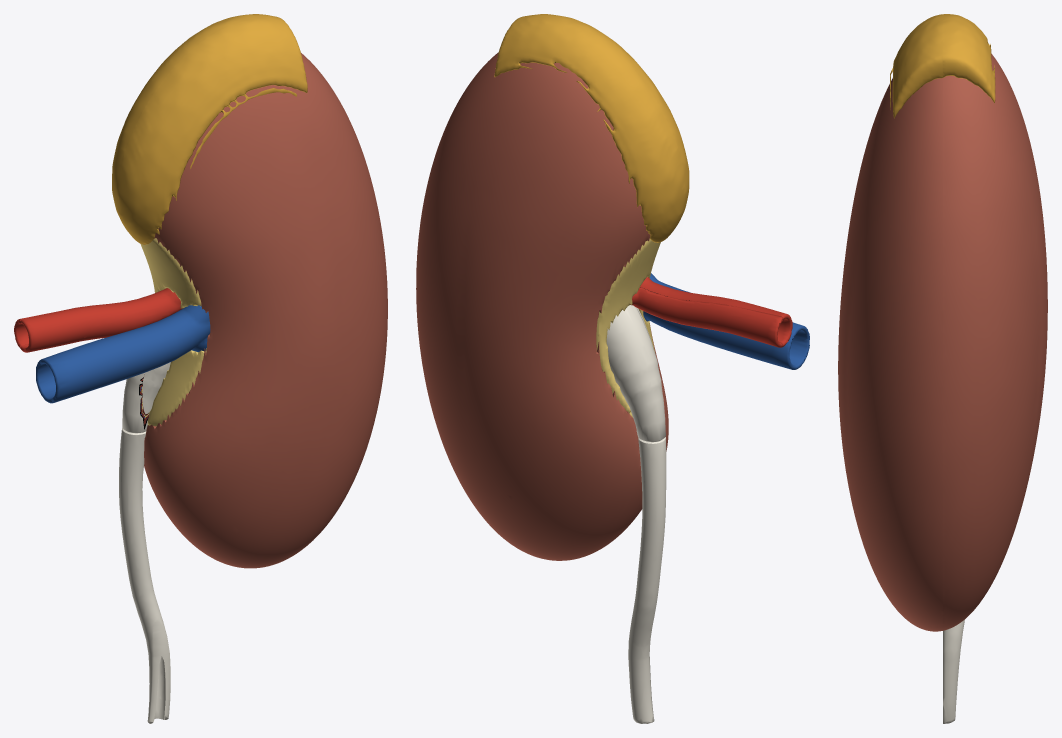
The model's file is kidney_normal_coronal.glb.
The picture shows the model from 3 angles, left to right: view 1: azimuth 30°, elevation 25°; view 2: azimuth 150°, elevation 25°; view 3: azimuth 270°, elevation 25°; orthographic projection. The views are drawn at different scales.
Visible parts, largest first — view 1: anterior_half, ureter, adrenal_gland, renal_pelvis; view 2: renal_cortex, adrenal_gland, anterior_half, ureter, renal_pelvis, renal_artery, renal_sinus; view 3: anterior_half, renal_cortex, adrenal_gland, ureter.
Part boxes in pixels (x1=…): anterior_half: x1=20, y1=18, x2=387, y2=568; ureter: x1=119, y1=428, x2=170, y2=723; adrenal_gland: x1=112, y1=14, x2=283, y2=240; renal_pelvis: x1=122, y1=373, x2=149, y2=433; renal_cortex: x1=416, y1=52, x2=650, y2=560; adrenal_gland: x1=494, y1=15, x2=684, y2=242; anterior_half: x1=522, y1=14, x2=809, y2=550; ureter: x1=628, y1=437, x2=666, y2=723; renal_pelvis: x1=606, y1=305, x2=665, y2=442; renal_artery: x1=630, y1=287, x2=783, y2=347; renal_sinus: x1=596, y1=238, x2=656, y2=417; anterior_half: x1=838, y1=14, x2=942, y2=631; renal_cortex: x1=943, y1=53, x2=1047, y2=630; adrenal_gland: x1=943, y1=14, x2=995, y2=102; ureter: x1=943, y1=619, x2=964, y2=723.
Size of the model in its own units: 7.85 by 14.23 by 3.66.
1 material, 1 textured.
